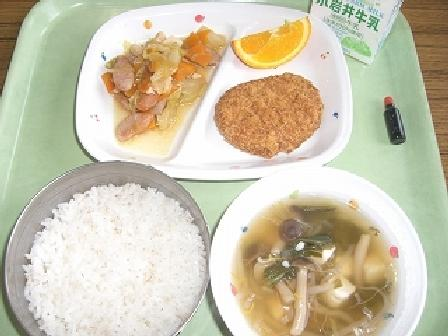Citrus: (235, 9, 314, 76)
Milk: (305, 2, 405, 53)
Rice: (3, 154, 213, 332)
Soups: (209, 171, 423, 332)
cutlet: (209, 65, 329, 160)
vegetable based cooked food: (100, 16, 215, 138)
